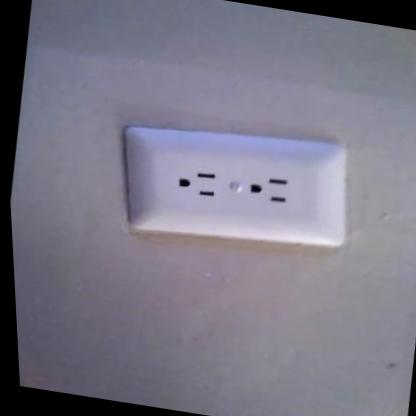OUTLET: (115, 120, 356, 260)
